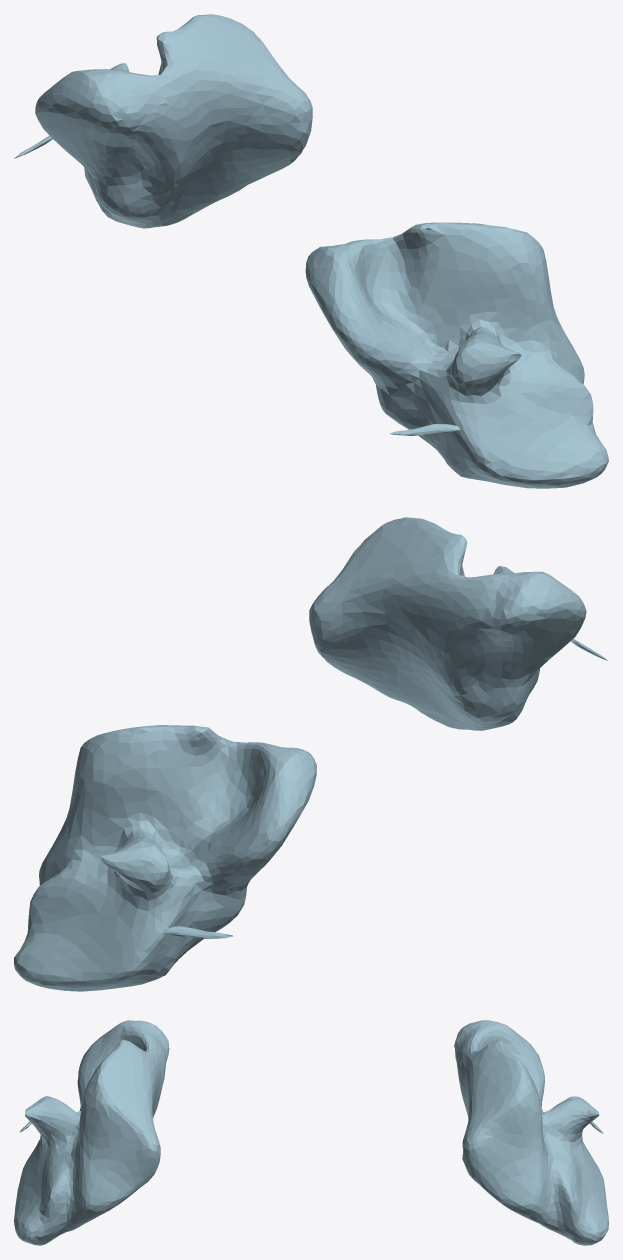
The picture shows the model from 3 angles, top to bottom: view 1: azimuth 30°, elevation 25°; view 2: azimuth 150°, elevation 25°; view 3: azimuth 270°, elevation 25°; orthographic projection. The views are drawn at different scales.
Visible parts, largest first — view 1: 278.obj; view 2: 278.obj; view 3: 278.obj.
Part boxes in pixels (bbox=[...]): 278.obj: bbox=[14, 14, 608, 488]; 278.obj: bbox=[14, 517, 607, 991]; 278.obj: bbox=[14, 1020, 608, 1245].
Bounding box in the file's own units: 2230 × 2074 × 6434.
